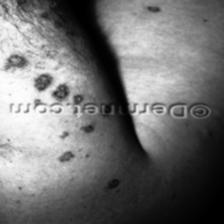Non-Cancerous Skin Condition: (0, 18, 79, 97), (39, 132, 106, 186), (95, 0, 177, 18), (0, 168, 16, 200)
